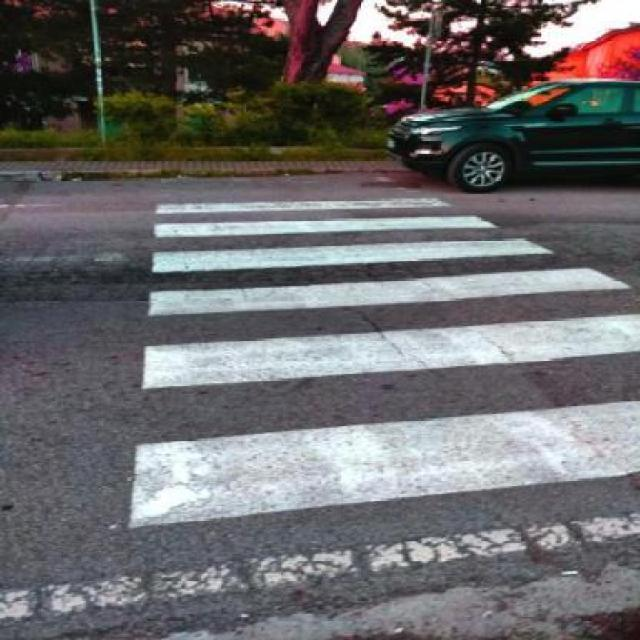crosswalk: (130, 196, 640, 529)
